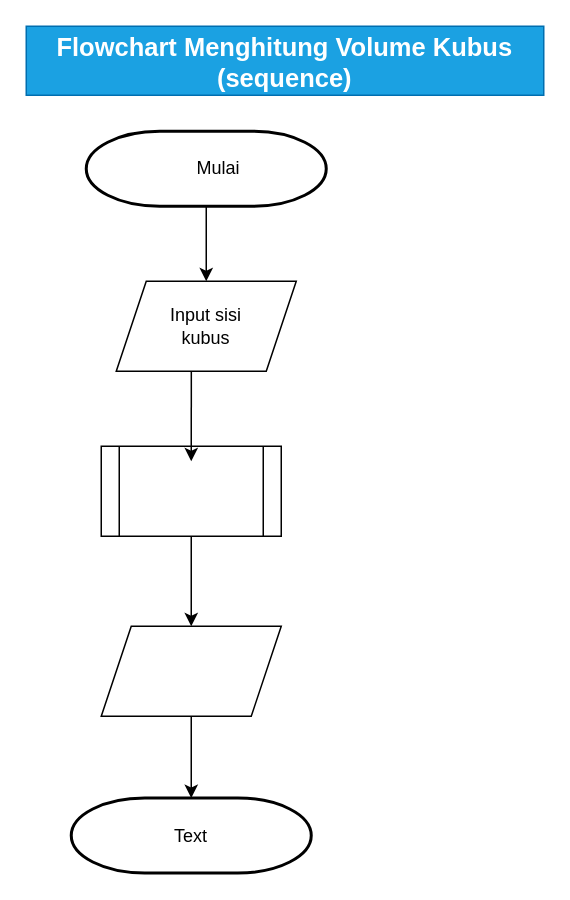
The diagram is 570 pixels wide and 900 high, and some of its shapes have lost their labels. Here are the shapes that lost their labels. From the top down, the box of each, then its label:
(100, 445, 281, 536): Hitung volume = sisi × | | sisi × sisi
(100, 625, 281, 716): Output volume
